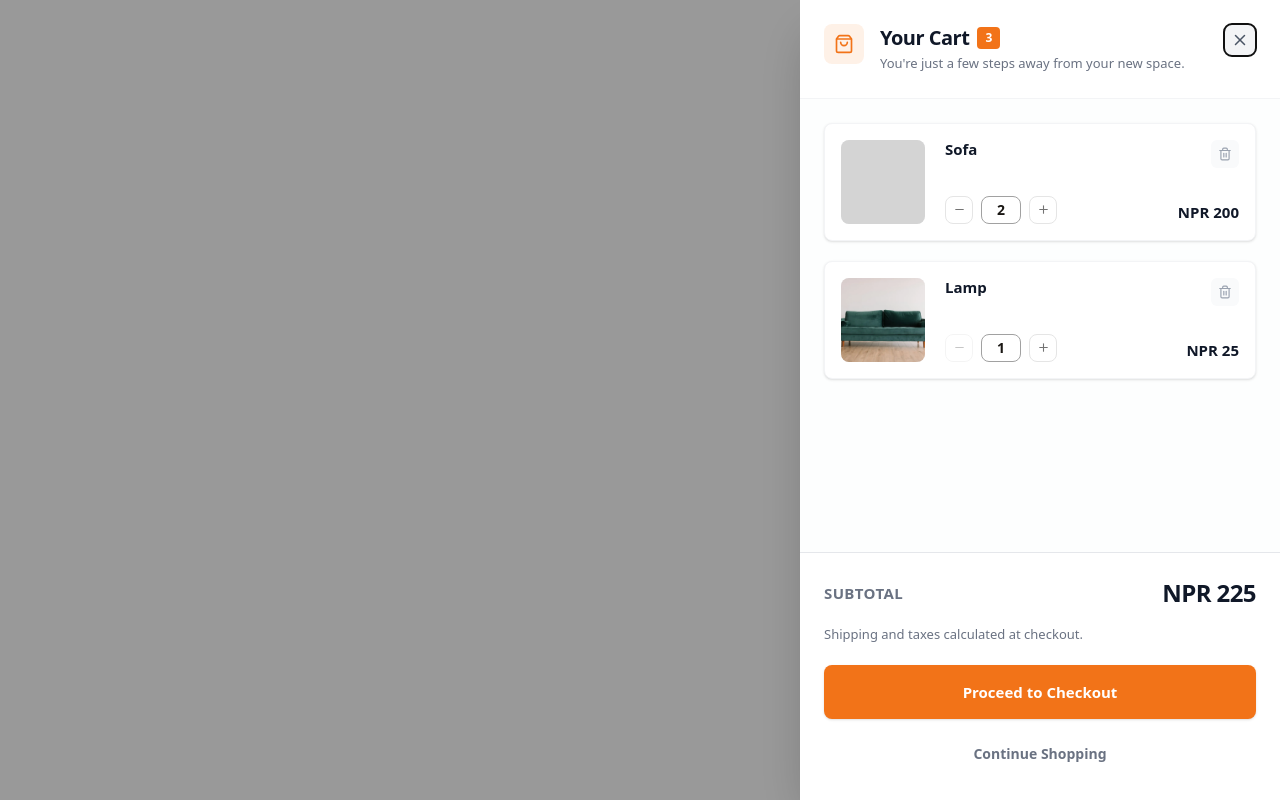
CartSlider — guest cart (real stores) › quantity changes flow through the real guest store and re-render totals
Click the button named "Increase quantity" next to "NPR 200": (1043, 210) x1=1029 y1=196 x2=1057 y2=224
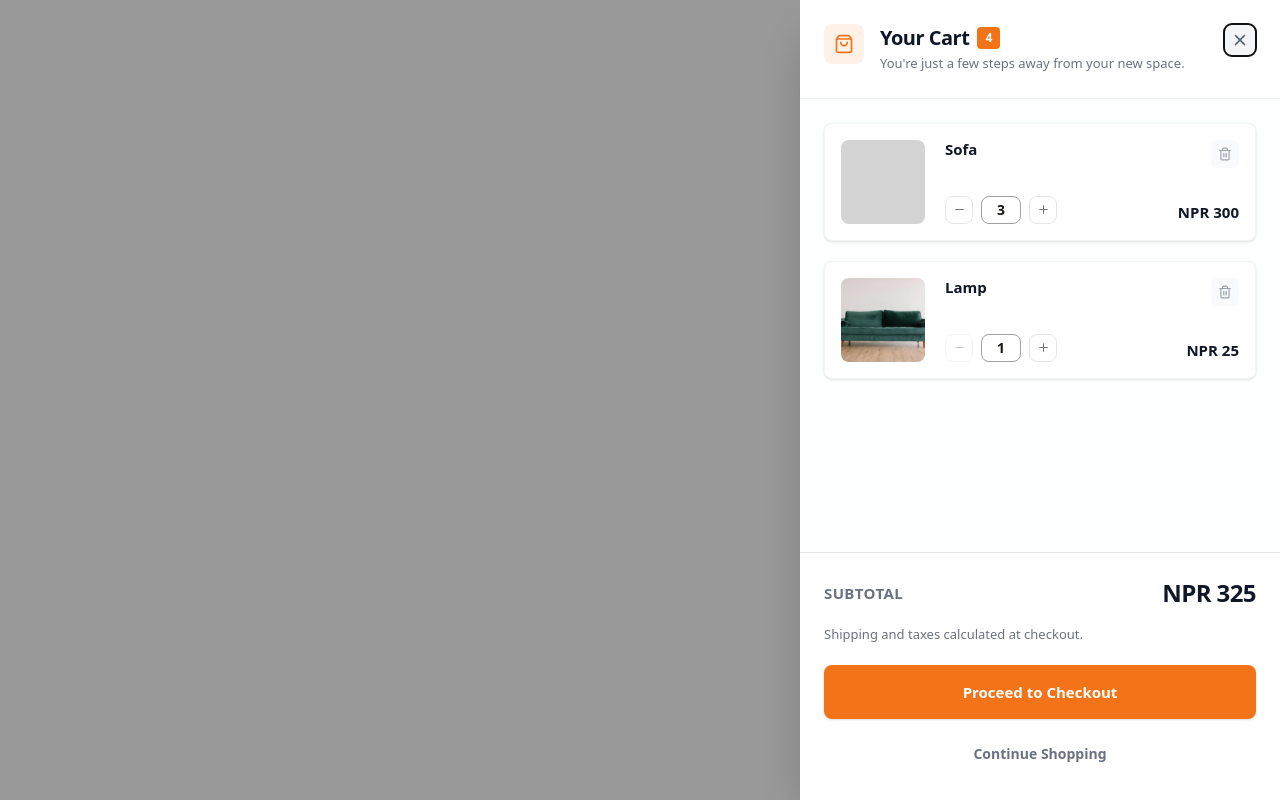
Check: the text "NPR 325" is shown, box x1=1162 y1=577 x2=1256 y2=609
